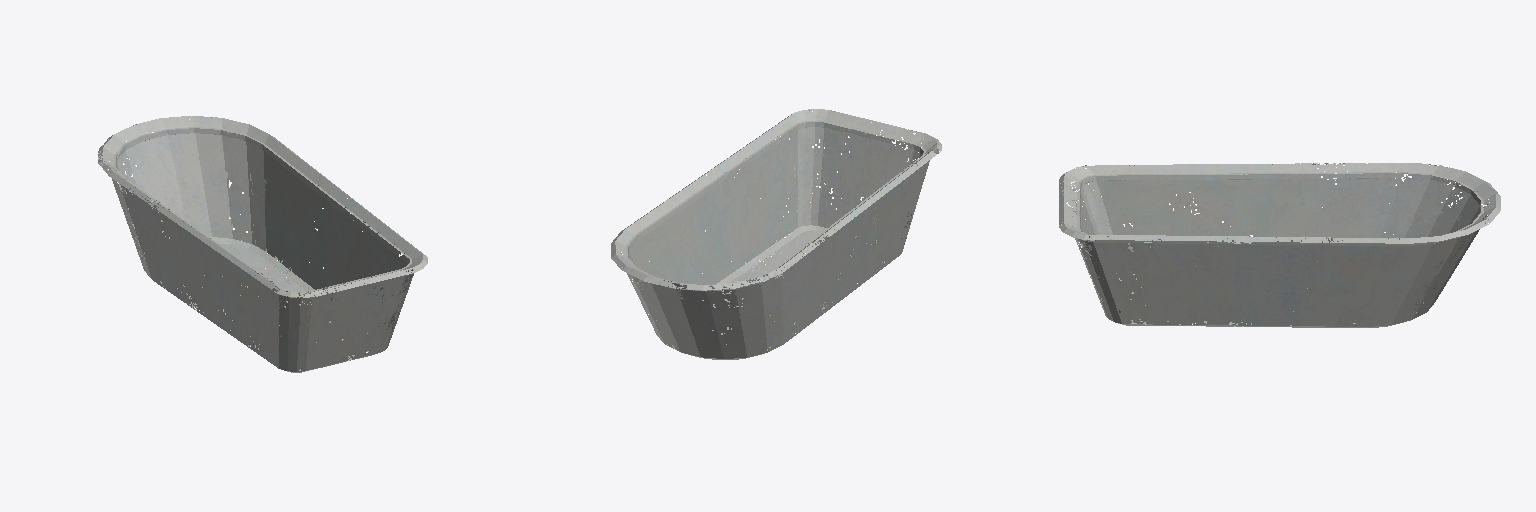
3 renders of one model, left to right at view 1: azimuth 30°, elevation 25°; view 2: azimuth 150°, elevation 25°; view 3: azimuth 270°, elevation 25°, orthographic.
Visible parts, largest first — view 1: mesh; view 2: mesh; view 3: mesh.
Part boxes in pixels (x1,y1,x2,y2): mesh: (98,116,427,372); mesh: (611,109,941,359); mesh: (1059,163,1500,327).
Size of the model in its own units: 41.11 by 26.64 by 96.07.
Materials: 1 (1 with a texture image).